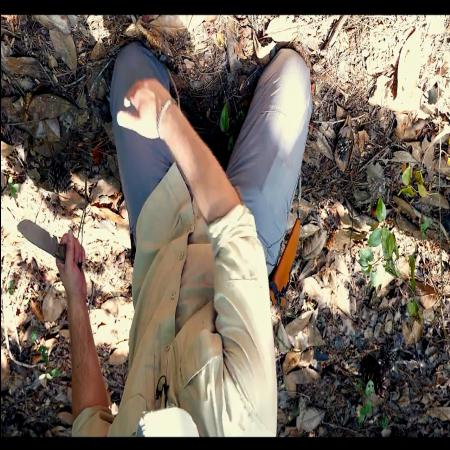long weapon: (12, 212, 88, 277)
